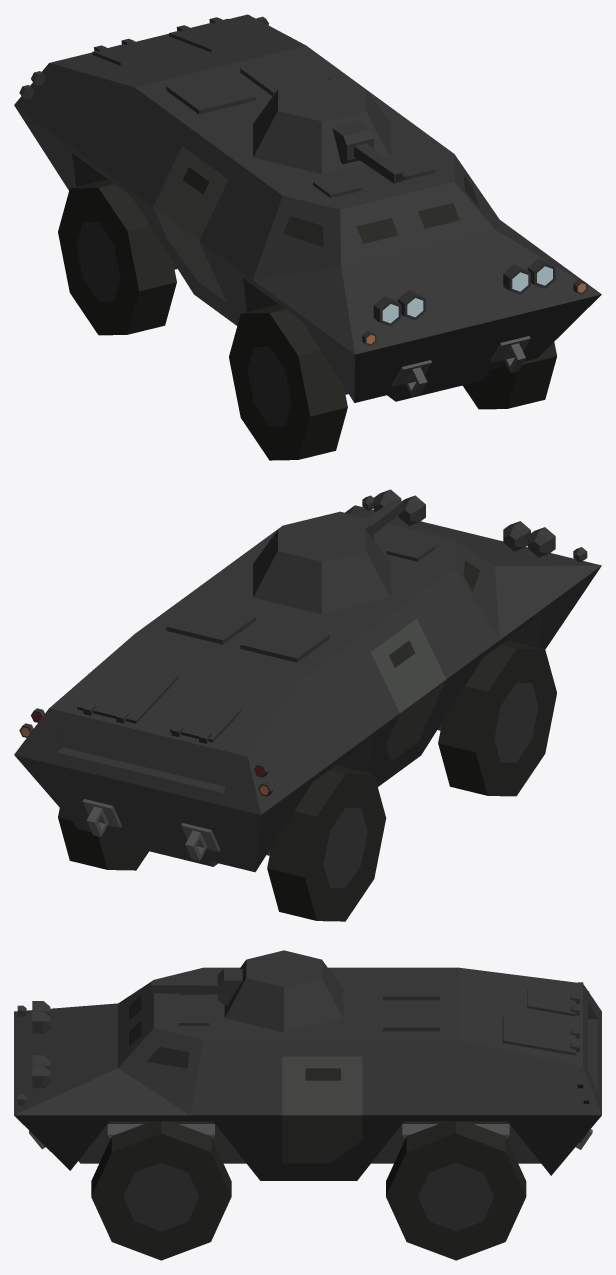
File: Veh_SWAT_Tank.obj
3 views of the same model, one above another, from view 1: azimuth 30°, elevation 25°; view 2: azimuth 150°, elevation 25°; view 3: azimuth 270°, elevation 25° (orthographic). The views are drawn at different scales.
Size of the model in its own units: 1.56 by 1.65 by 3.66.
